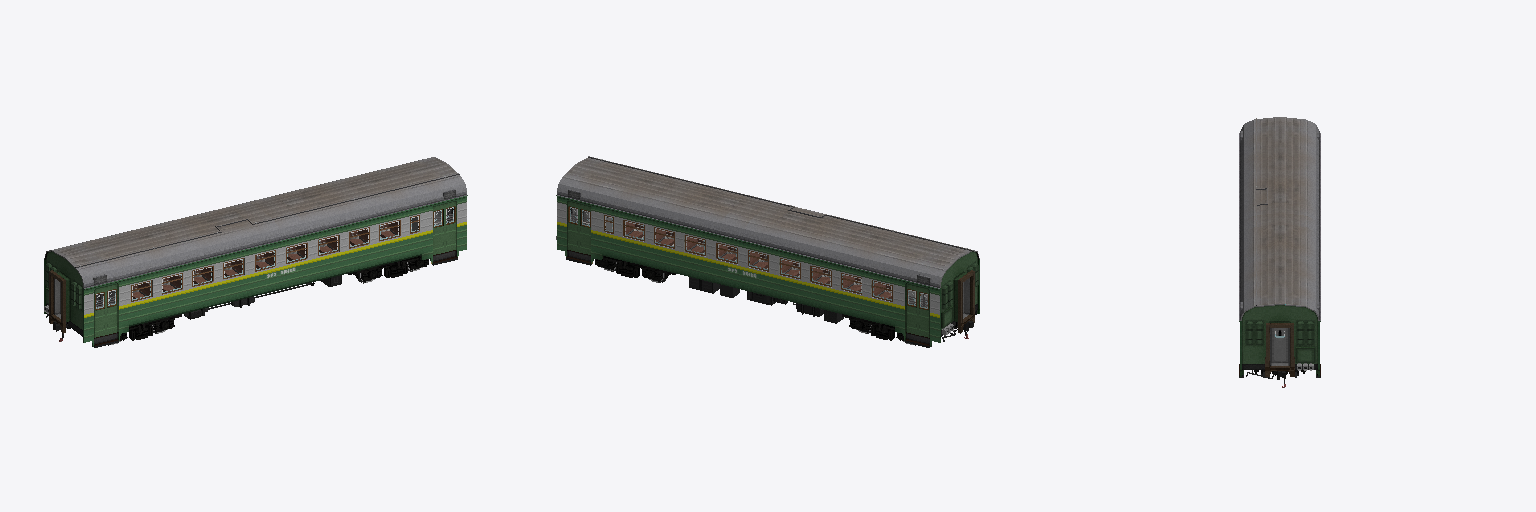
The picture shows the model from 3 angles: view 1: azimuth 30°, elevation 25°; view 2: azimuth 150°, elevation 25°; view 3: azimuth 270°, elevation 25°; orthographic projection.
Parts seen in each view (by area): view 1: FRAME_er2t, INTERIOR_1_LCG_ER2L_er2t, BOGEY_REAR_er2t, BOGEY_FRONT_er2t, DOOR_2_TL_0.531_X_CG_DrL_EXTERNAL_er2t, DOOR_4_TL_0.531_X_CG_DrL_EXTERNAL_er2t, DOOR_3_TL_-0.531_X_CG_DrL_EXTERNAL_er2t, DOOR_1_TL_-0.531_X_CG_DrL_EXTERNAL_er2t; view 2: FRAME_er2t, INTERIOR_1_LCG_ER2L_er2t, BOGEY_REAR_er2t, BOGEY_FRONT_er2t, DOOR_6_TL_0.531_X_CG_DrR_EXTERNAL_er2t, DOOR_8_TL_0.531_X_CG_DrR_EXTERNAL_er2t, DOOR_7_TL_-0.531_X_CG_DrR_EXTERNAL_er2t, DOOR_5_TL_-0.531_X_CG_DrR_EXTERNAL_er2t; view 3: FRAME_er2t, DOOR_14_TOGGLE_CONNECTING_er2t.
Part boxes in pixels (x1,y1,x2,y2): FRAME_er2t: (44,157,467,347); INTERIOR_1_LCG_ER2L_er2t: (96,208,453,308); BOGEY_REAR_er2t: (348,256,428,281); BOGEY_FRONT_er2t: (120,314,181,340); DOOR_2_TL_0.531_X_CG_DrL_EXTERNAL_er2t: (106,283,118,334); DOOR_4_TL_0.531_X_CG_DrL_EXTERNAL_er2t: (445,201,456,251); DOOR_3_TL_-0.531_X_CG_DrL_EXTERNAL_er2t: (433,204,444,254); DOOR_1_TL_-0.531_X_CG_DrL_EXTERNAL_er2t: (94,286,105,337); FRAME_er2t: (556,156,979,347); INTERIOR_1_LCG_ER2L_er2t: (570,208,927,308); BOGEY_REAR_er2t: (595,256,675,281); BOGEY_FRONT_er2t: (842,314,903,340); DOOR_6_TL_0.531_X_CG_DrR_EXTERNAL_er2t: (905,283,917,334); DOOR_8_TL_0.531_X_CG_DrR_EXTERNAL_er2t: (567,201,578,251); DOOR_7_TL_-0.531_X_CG_DrR_EXTERNAL_er2t: (579,204,590,254); DOOR_5_TL_-0.531_X_CG_DrR_EXTERNAL_er2t: (918,286,929,337); FRAME_er2t: (1239,117,1320,387); DOOR_14_TOGGLE_CONNECTING_er2t: (1271,328,1288,362).
Bounding box in the file's own units: 21.05 × 4.53 × 3.67.
Materials: 3 (3 with a texture image).